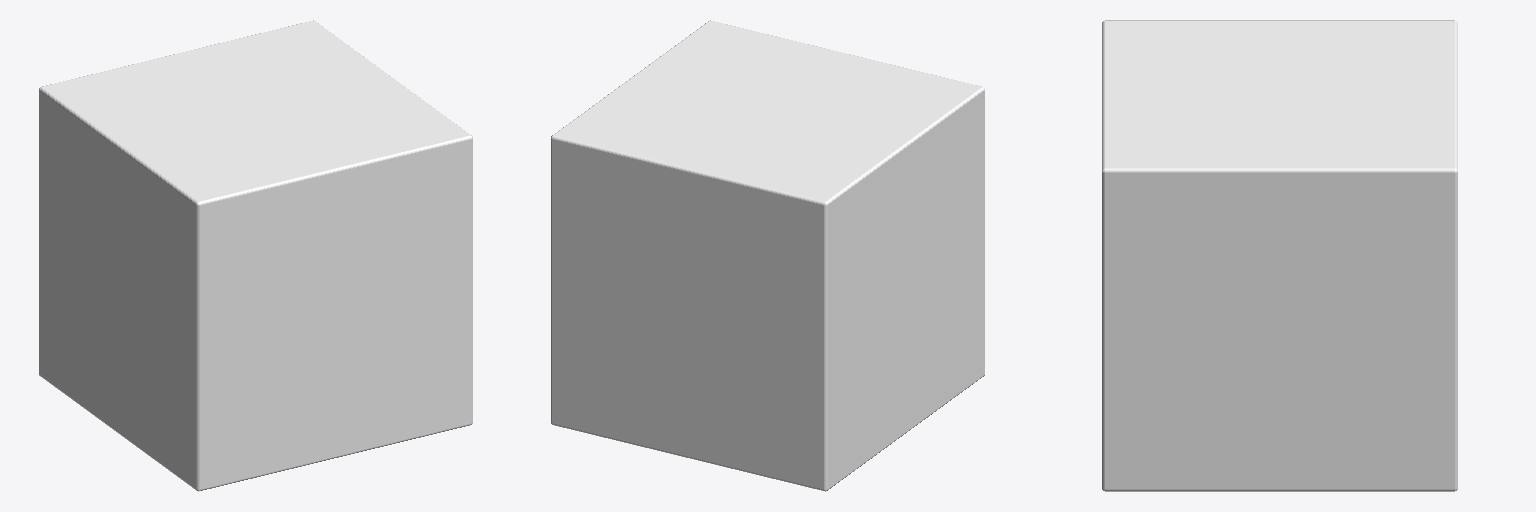
URDF robot description (obstacle2.obj):
<robot name="obstacle2.obj">
	<link name="_name">
		<visual>
			<origin xyz="-9.153720611768095e-14 -4.677381075079974e-09 -0.05000000002137501" rpy="0 0 0" />
			<geometry>
				<mesh filename="obstacle2.obj" scale="0.001 0.001 0.001" />
			</geometry>
			<material name="texture">
				<color rgba="1.0 1.0 1.0 1.0" />
			</material>
		</visual>
		<collision>
			<geometry>
				<mesh filename="obstacle2_vhacd.obj" scale="0.001 0.001 0.001" />
			</geometry>
		<origin xyz="-9.153720611768095e-14 -4.677381075079974e-09 -0.05000000002137501" rpy="0 0 0" /></collision>
		<inertial>
			<mass value="0.3" />
			<inertia ixx="0.6" ixy="0.0" ixz="0.0" iyy="0.5" iyz="-0.0" izz="0.08" />
		</inertial>
	</link>
</robot>

--- Render facts (derived) ---
3 views of the same robot in one strip: view 1: azimuth 30°, elevation 25°; view 2: azimuth 150°, elevation 25°; view 3: azimuth 270°, elevation 25° (orthographic).
Robot: obstacle2.obj — 1 links, 0 joints (none); root link _name; default pose: all joints at 0.
Links seen in each view (by area): view 1: _name; view 2: _name; view 3: _name.
Link boxes in pixels (bbox=[...]): _name: bbox=[39, 20, 472, 491]; _name: bbox=[551, 20, 984, 491]; _name: bbox=[1102, 20, 1457, 491].
Bounding box of the posed robot: 0.1 × 0.1 × 0.1 m (x, y, z).
1 mesh visuals loaded from 1 distinct referenced files (1 OBJ).